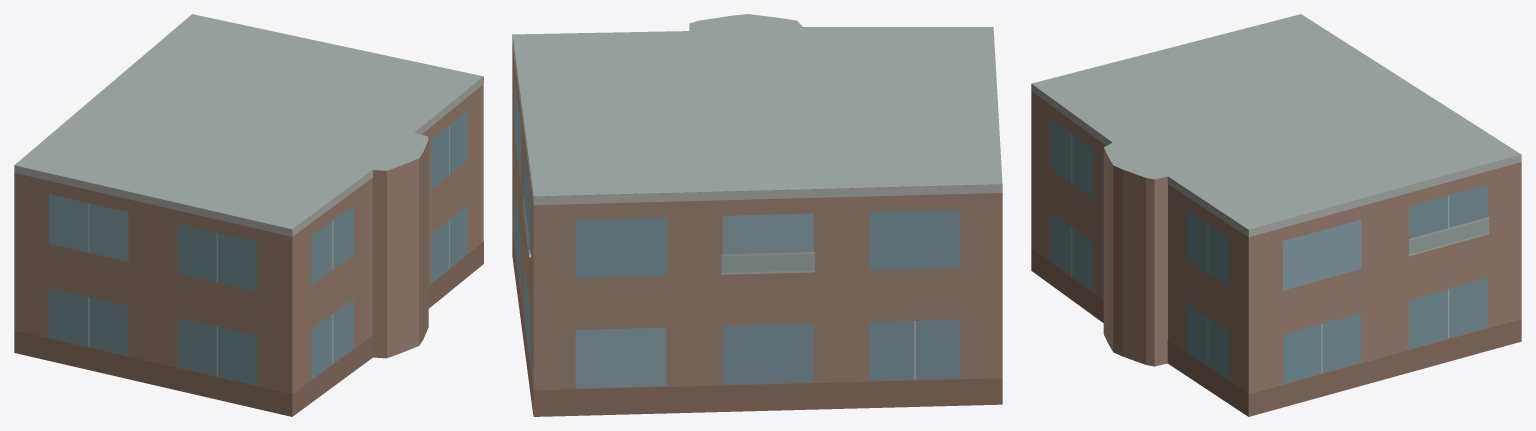
Rendered from survey-upis-32888654.glb.
3 views of the same model, side by side, from view 1: azimuth 30°, elevation 25°; view 2: azimuth 150°, elevation 25°; view 3: azimuth 270°, elevation 25° (orthographic). The views are drawn at different scales.
Parts seen in each view (by area): view 1: survey-upis-32888654.tmp; view 2: survey-upis-32888654.tmp; view 3: survey-upis-32888654.tmp.
Boxes of the visible parts, x1,y1,x2,y2 form: survey-upis-32888654.tmp: [14, 14, 483, 416]; survey-upis-32888654.tmp: [512, 14, 1002, 416]; survey-upis-32888654.tmp: [1031, 14, 1521, 416].
Size of the model in its own units: 15.1 by 6.1 by 14.5.
